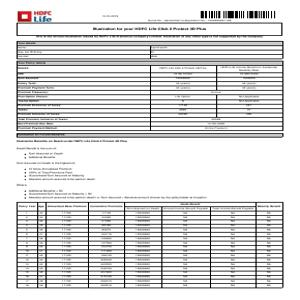image: (16, 9, 55, 22)
table: (16, 41, 283, 137), (17, 202, 282, 287)
text: (16, 183, 211, 200), (16, 160, 99, 182), (35, 35, 267, 40), (93, 24, 209, 33), (16, 145, 72, 160), (15, 138, 128, 144)
